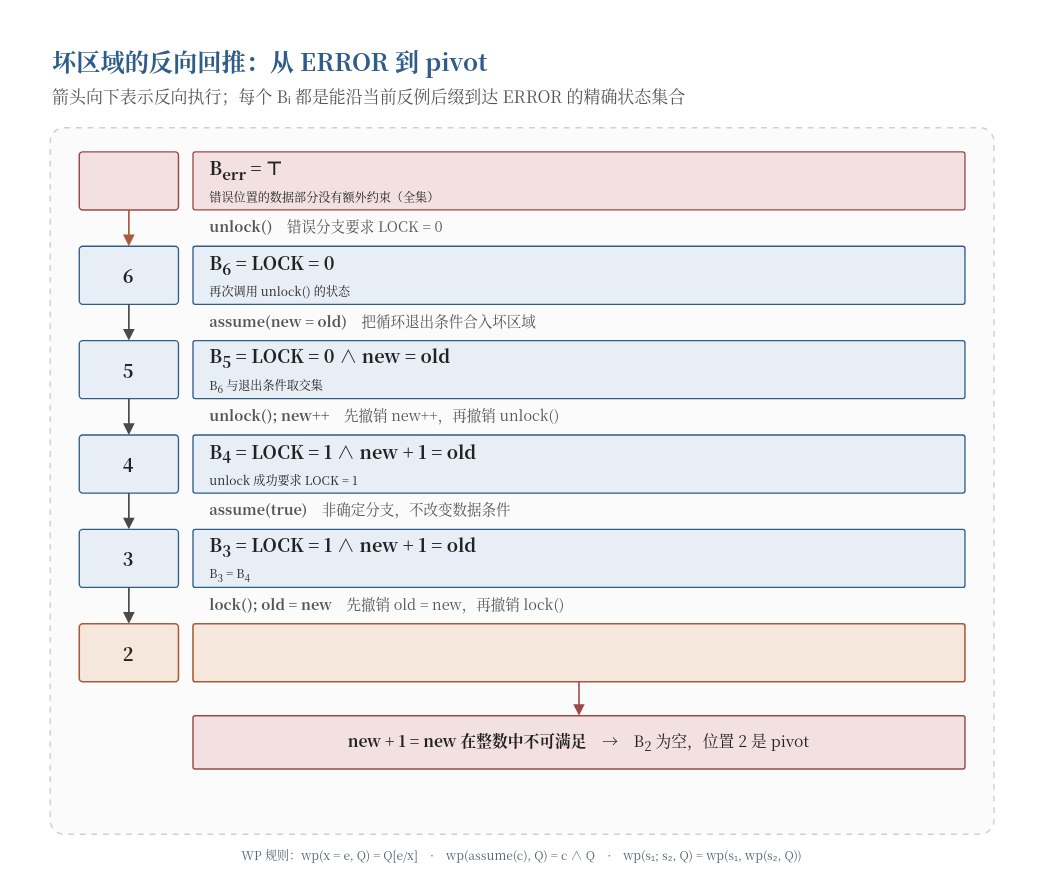
The diagram is 1043 pixels wide and 888 high, and some of its shapes have lost their labels. Each missing label, with the centre of its shape:
B 2 = LOCK = 0 ∧ new + 1 = new old 被 new 替换；lock 成功要求 LOCK = 0: [578,652]
ERROR: [128,180]
